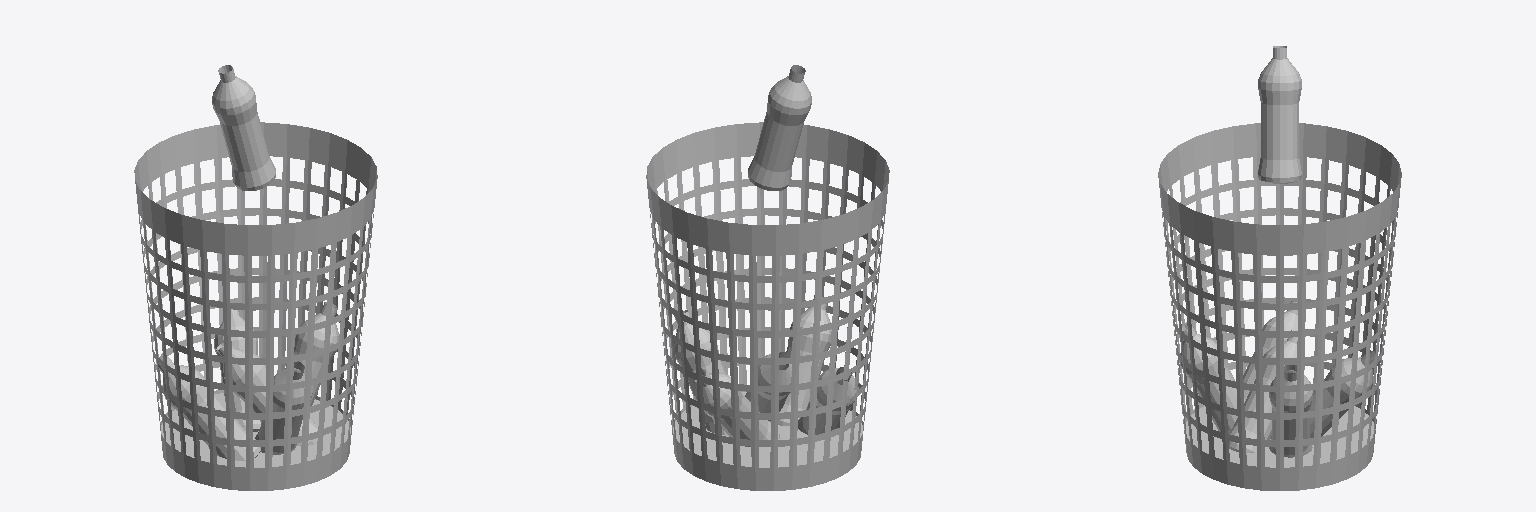
Rendered from DustbinWithCan_000019.obj.
3 renders of one model, left to right at view 1: azimuth 30°, elevation 25°; view 2: azimuth 150°, elevation 25°; view 3: azimuth 270°, elevation 25°, orthographic.
Parts seen in each view (by area): view 1: Cylinder, Plane.006, Plane.005, Plane.001, Plane.004, Plane.003, Plane.002; view 2: Cylinder, Plane.006, Plane.001, Plane.002, Plane.005, Plane.003, Plane.004; view 3: Cylinder, Plane.006, Plane.001, Plane.004, Plane.003, Plane.002, Plane.005.
Boxes of the visible parts, x1,y1,x2,y2 form: Cylinder: [134, 122, 377, 490]; Plane.006: [212, 65, 275, 190]; Plane.005: [156, 356, 260, 460]; Plane.001: [255, 361, 312, 454]; Plane.004: [216, 342, 317, 445]; Plane.003: [285, 302, 338, 405]; Plane.002: [214, 309, 260, 431]; Cylinder: [646, 122, 889, 490]; Plane.006: [748, 65, 811, 190]; Plane.001: [770, 295, 831, 425]; Plane.002: [695, 369, 779, 446]; Plane.005: [798, 367, 858, 434]; Plane.003: [674, 310, 727, 435]; Plane.004: [745, 352, 791, 420]; Cylinder: [1158, 123, 1401, 490]; Plane.006: [1258, 46, 1301, 183]; Plane.001: [1180, 324, 1245, 432]; Plane.004: [1228, 330, 1297, 453]; Plane.003: [1269, 365, 1312, 457]; Plane.002: [1310, 350, 1375, 437]; Plane.005: [1243, 301, 1297, 398].
Size of the model in its own units: 2.6 by 4.61 by 2.6.